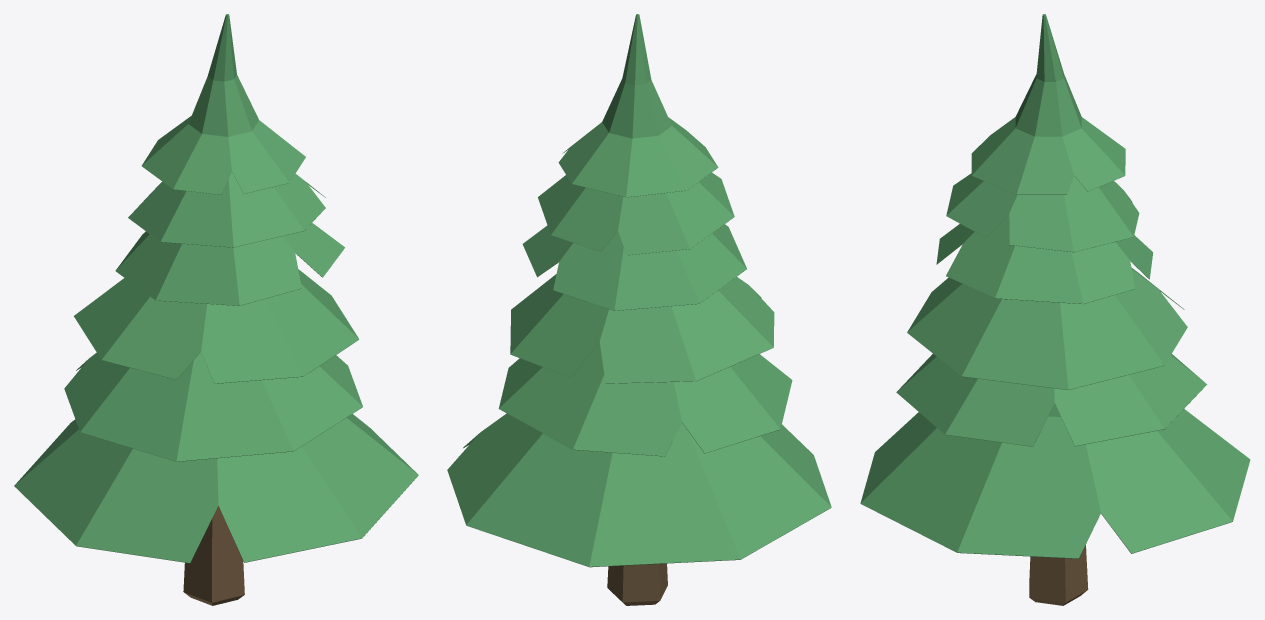
File: Tree_07.fbx
3 views of the same model, side by side, from view 1: azimuth 30°, elevation 25°; view 2: azimuth 150°, elevation 25°; view 3: azimuth 270°, elevation 25° (orthographic).
Parts seen in each view (by area): view 1: Tree_07; view 2: Tree_07; view 3: Tree_07.
Boxes of the visible parts, x1,y1,x2,y2 form: Tree_07: (14, 14, 418, 605); Tree_07: (447, 14, 831, 605); Tree_07: (860, 14, 1250, 605).
Size of the model in its own units: 280 by 468 by 283.
